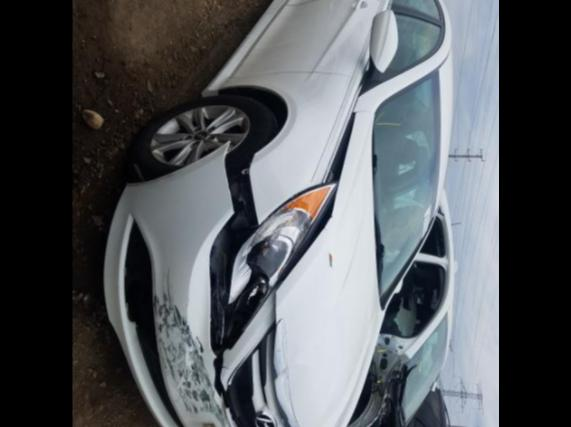Broken part: (100, 139, 265, 427), (266, 112, 381, 427), (224, 182, 336, 345), (216, 291, 289, 427)
Paint chip: (153, 259, 233, 427), (327, 250, 334, 268)
